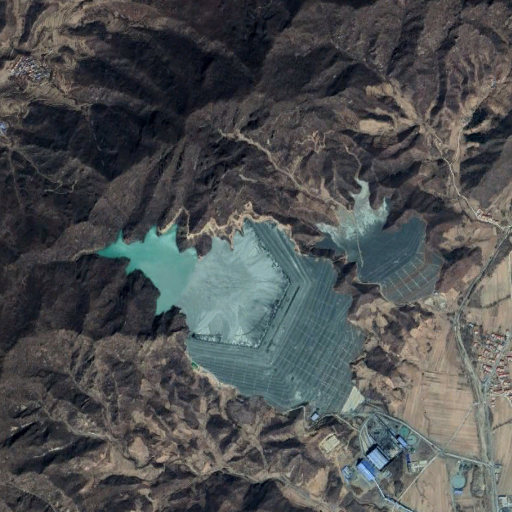tp: (93, 212, 366, 417), (321, 183, 442, 304)
